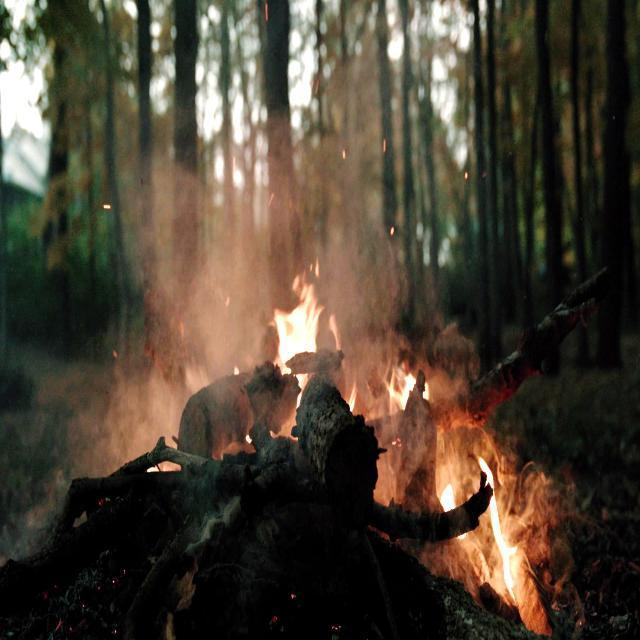Fire: (270, 255, 324, 390), (478, 452, 522, 596), (384, 362, 422, 416)
Smoke: (98, 120, 290, 467), (308, 42, 418, 348)
